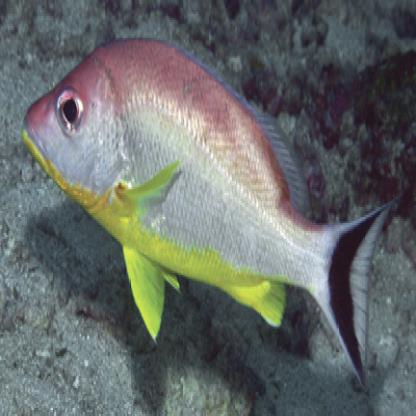snapper: (20, 29, 399, 393)
